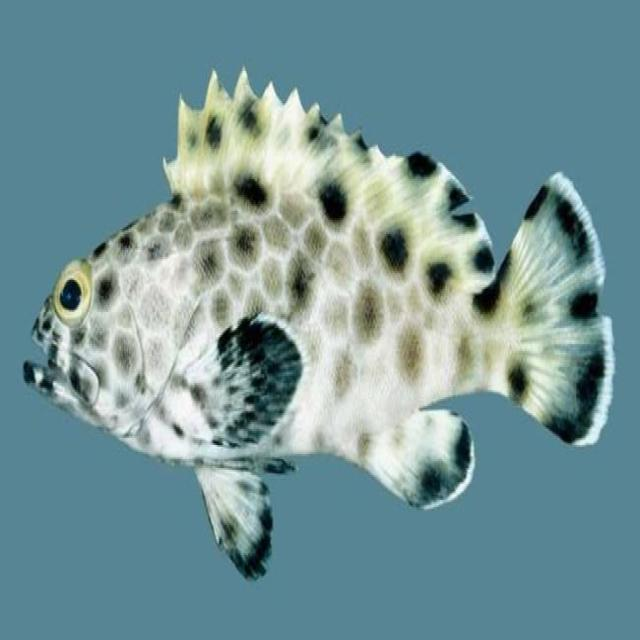ikan: (8, 57, 622, 596)
